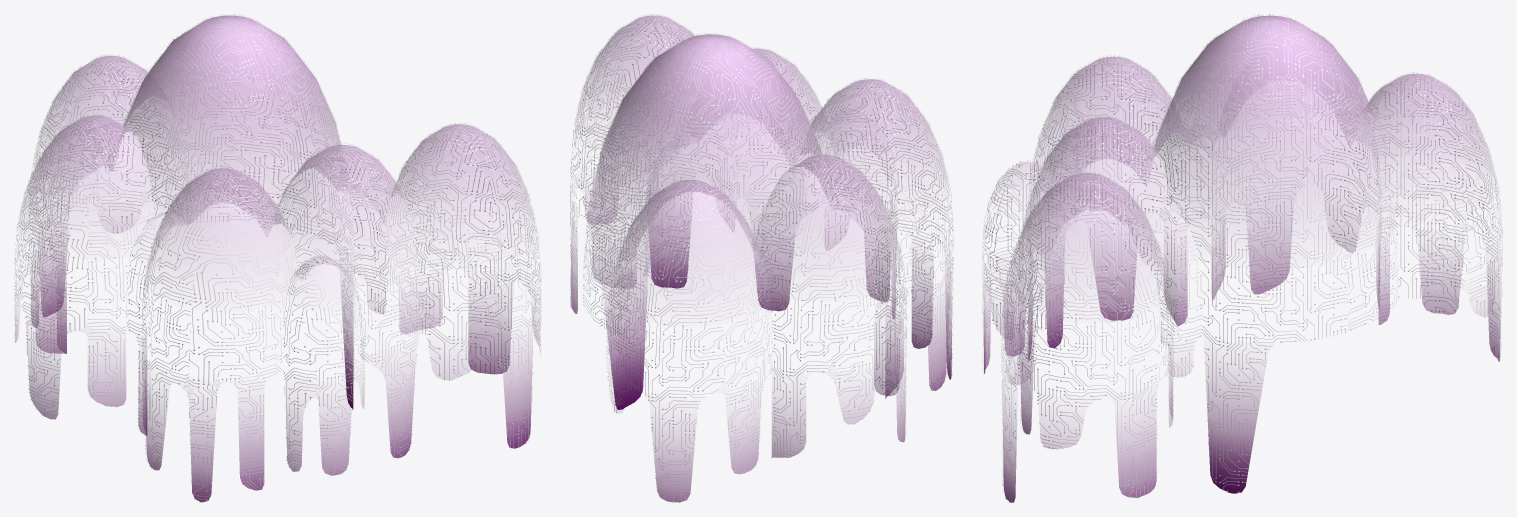
Rendered from Dome03_Art.glb.
3 views of the same model, side by side, from view 1: azimuth 30°, elevation 25°; view 2: azimuth 150°, elevation 25°; view 3: azimuth 270°, elevation 25° (orthographic). The views are drawn at different scales.
Visible parts, largest first — view 1: Dome03_Art; view 2: Dome03_Art; view 3: Dome03_Art.
Part boxes in pixels (x1,y1,x2,y2): Dome03_Art: (14,14,541,502); Dome03_Art: (570,14,953,502); Dome03_Art: (982,14,1502,502).
Size of the model in its own units: 38.49 by 36.1 by 40.54.
2 materials, 2 textured.
